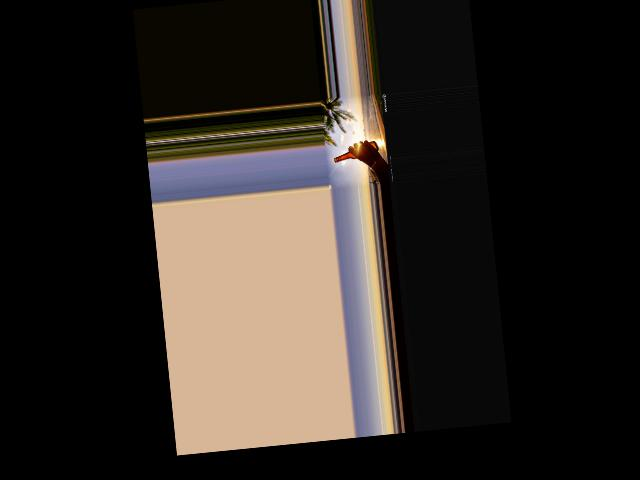beer: (332, 141, 380, 163)
